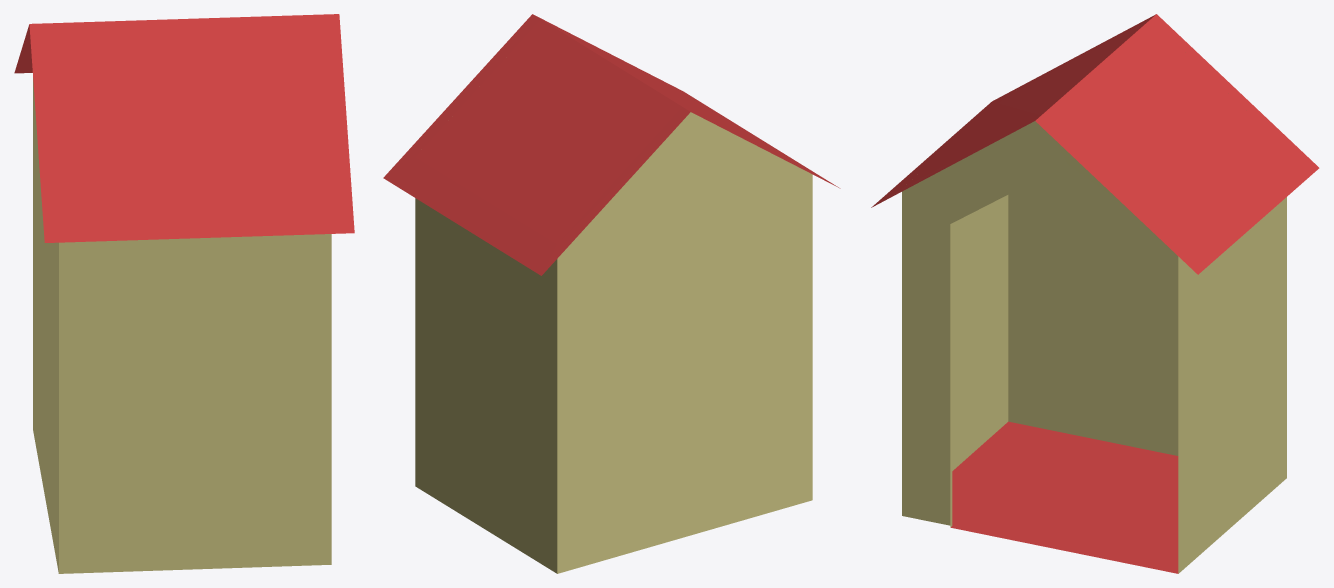
3 views of the same model, side by side, from view 1: azimuth 30°, elevation 25°; view 2: azimuth 150°, elevation 25°; view 3: azimuth 270°, elevation 25° (orthographic). The views are drawn at different scales.
Size of the model in its own units: 13.95 by 15.27 by 16.15.
